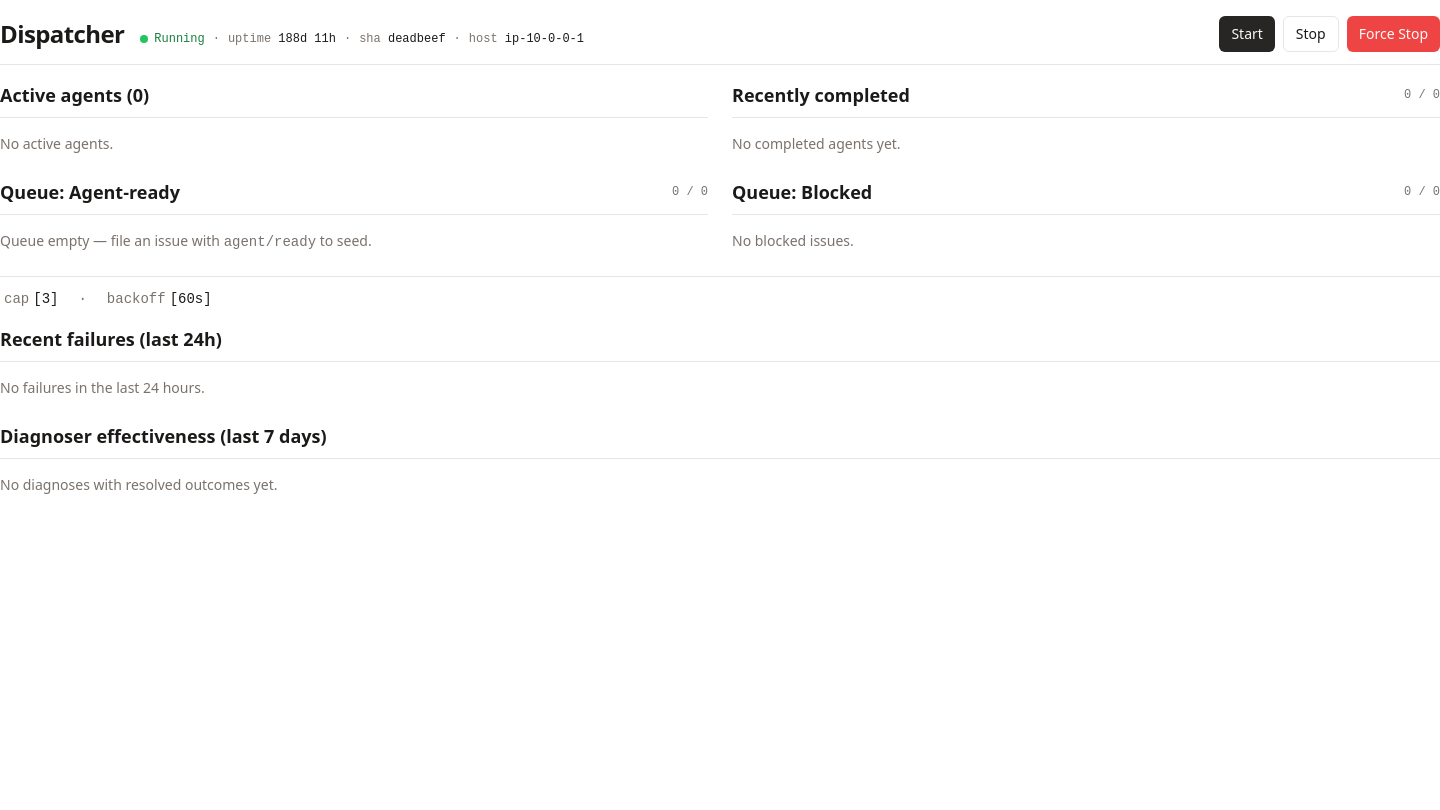
Test case: DispatcherDashboard — #3159 expand-count dialog wiring › clicking the Recently Completed count opens the dialog with the COMPLETED title
The image size is (1440, 810).
Click the button with test id "recent-completions-count": (1422, 95) [1404,87,1439,103]
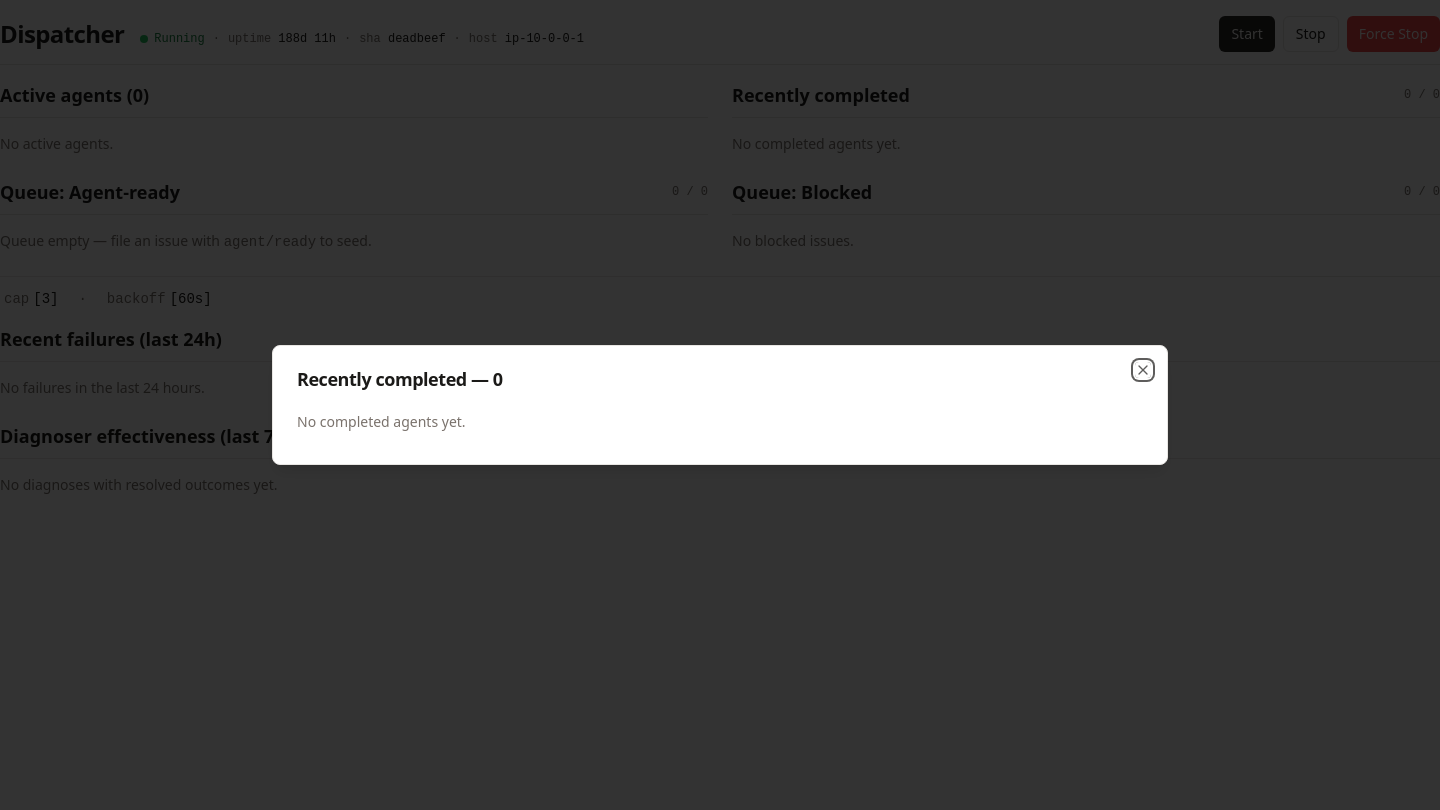
Expected: the heading with test id "queue-full-dialog-title" shows "Recently completed", [297,367,503,391]
